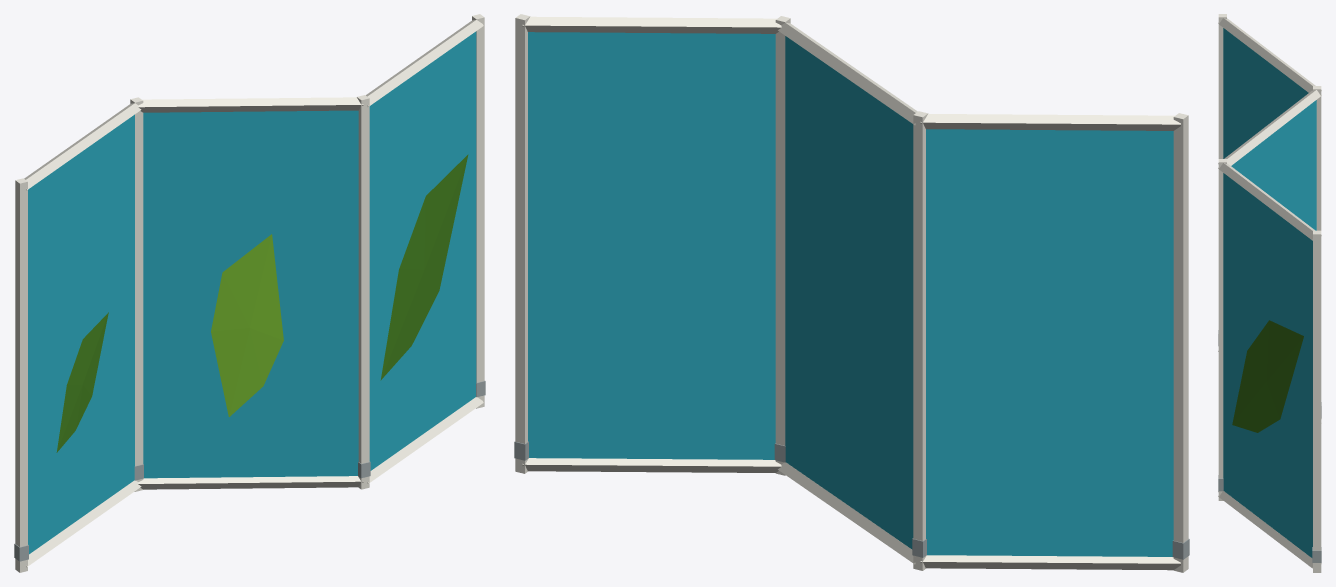
File: glass_partition.glb
The picture shows the model from 3 angles, left to right: view 1: azimuth 30°, elevation 25°; view 2: azimuth 150°, elevation 25°; view 3: azimuth 270°, elevation 25°; orthographic projection. The views are drawn at different scales.
Parts seen in each view (by area): view 1: Aero_glass_partition; view 2: Aero_glass_partition; view 3: Aero_glass_partition.
Boxes of the visible parts, box(x1,y1,x2,y2) form: Aero_glass_partition: box(14, 14, 485, 572); Aero_glass_partition: box(514, 14, 1189, 572); Aero_glass_partition: box(1218, 14, 1321, 572).
Size of the model in its own units: 3.5 by 2.5 by 0.695.
5 materials, 5 textured.
